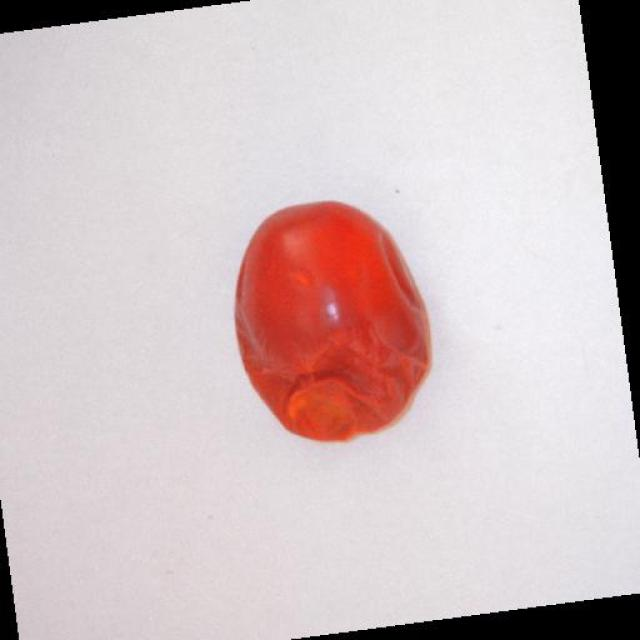Stale_tomato: (229, 190, 433, 442)
